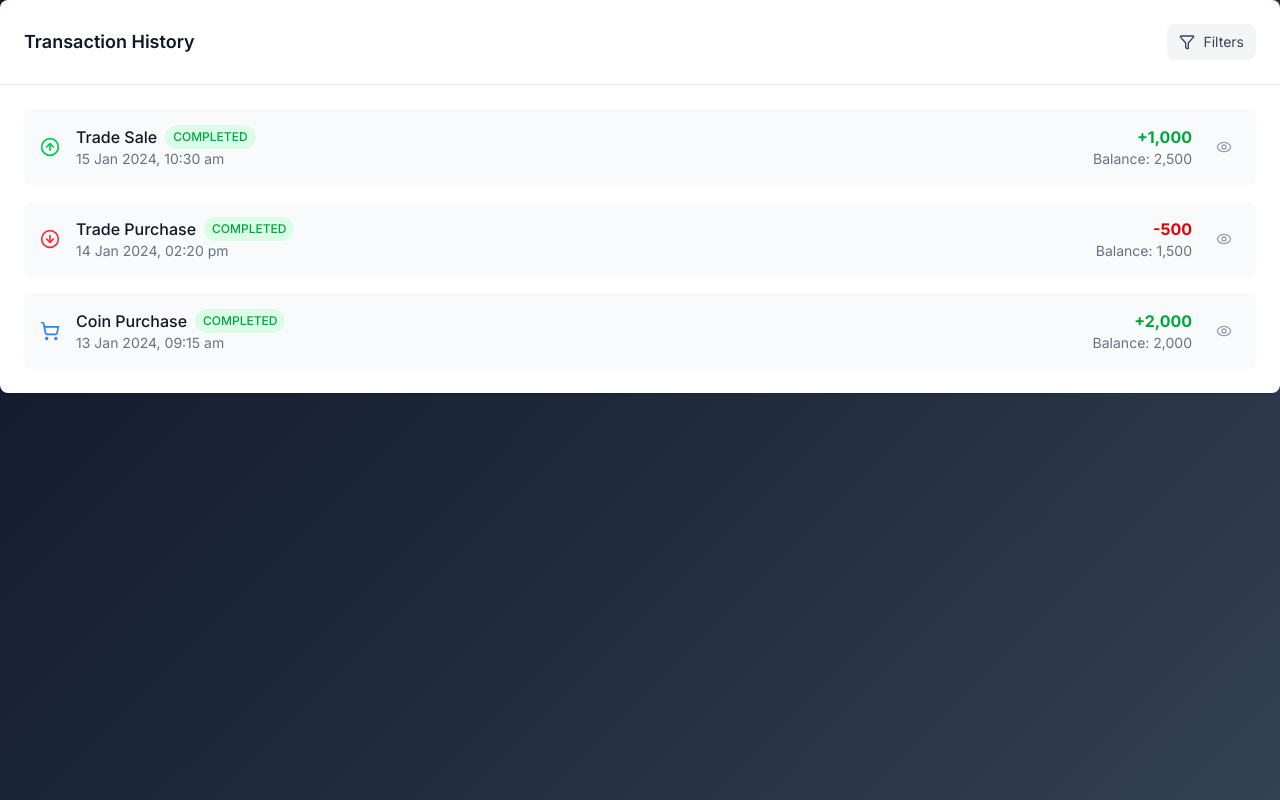
Scenario: CoinTransactionHistory › Filtering › should show filter panel when filters button is clicked
Expected: the text "Filters" is shown, [1204, 32, 1244, 52]
Click the button "Filters" at (1212, 42), box [1168, 24, 1256, 60]
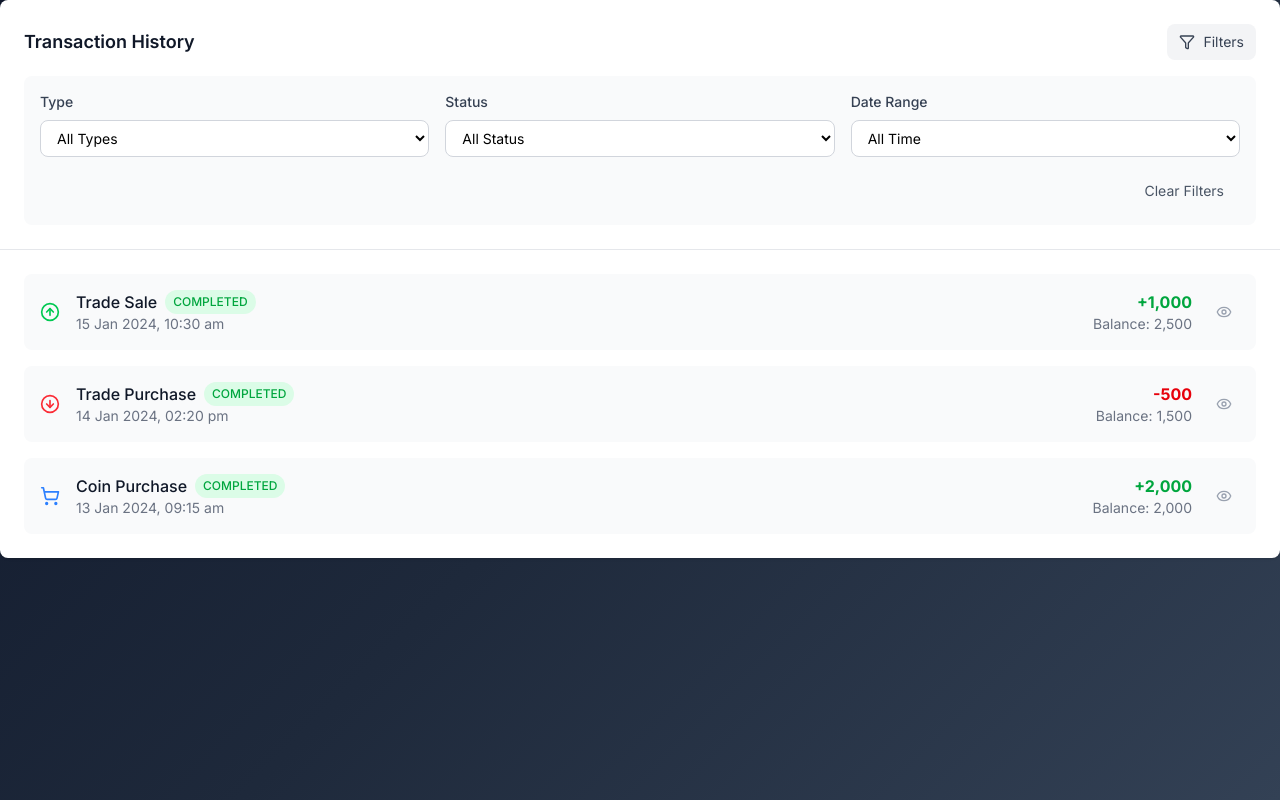
Now the text "Type" is shown, box [40, 93, 73, 110]
Now the text "Status" is shown, box [445, 93, 488, 110]
Now the text "Date Range" is shown, box [851, 93, 928, 110]
